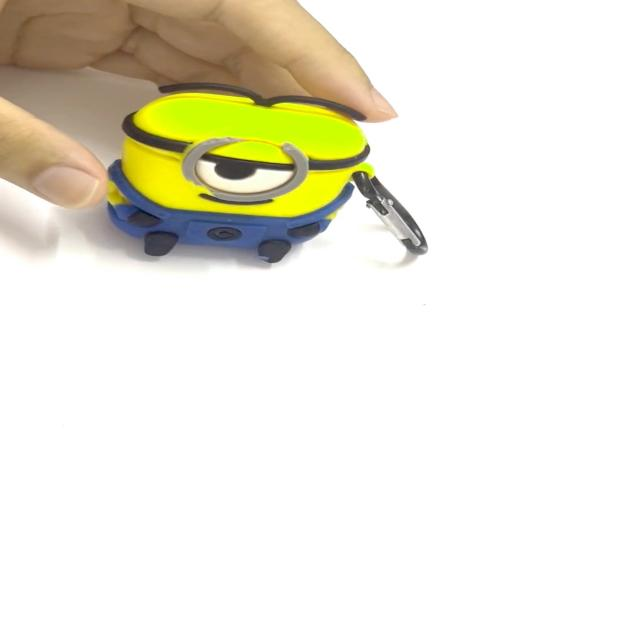airpod minion: (90, 78, 442, 291)
